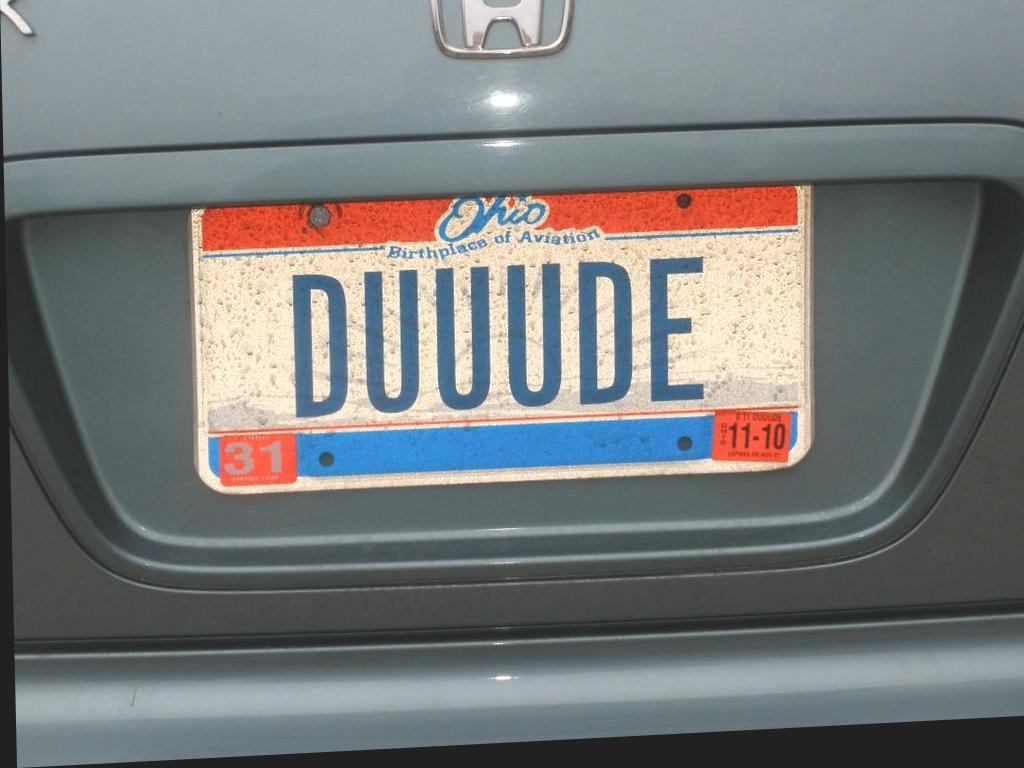License_Plate: (196, 179, 811, 496)
